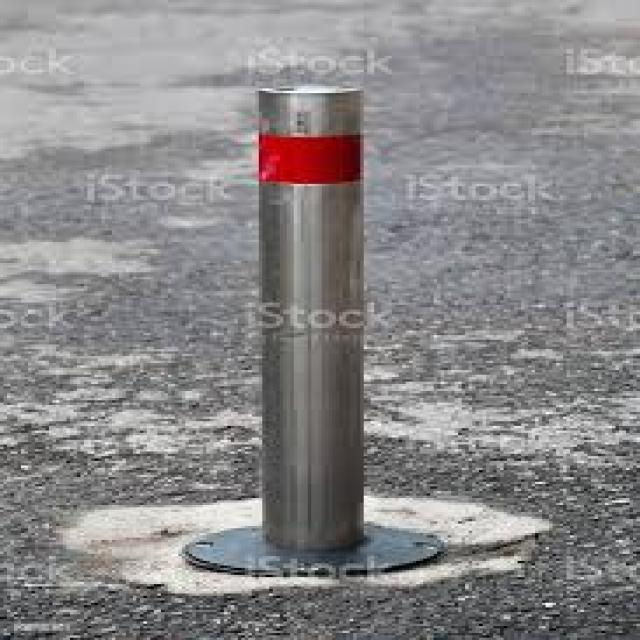bollard: (231, 76, 396, 589)
